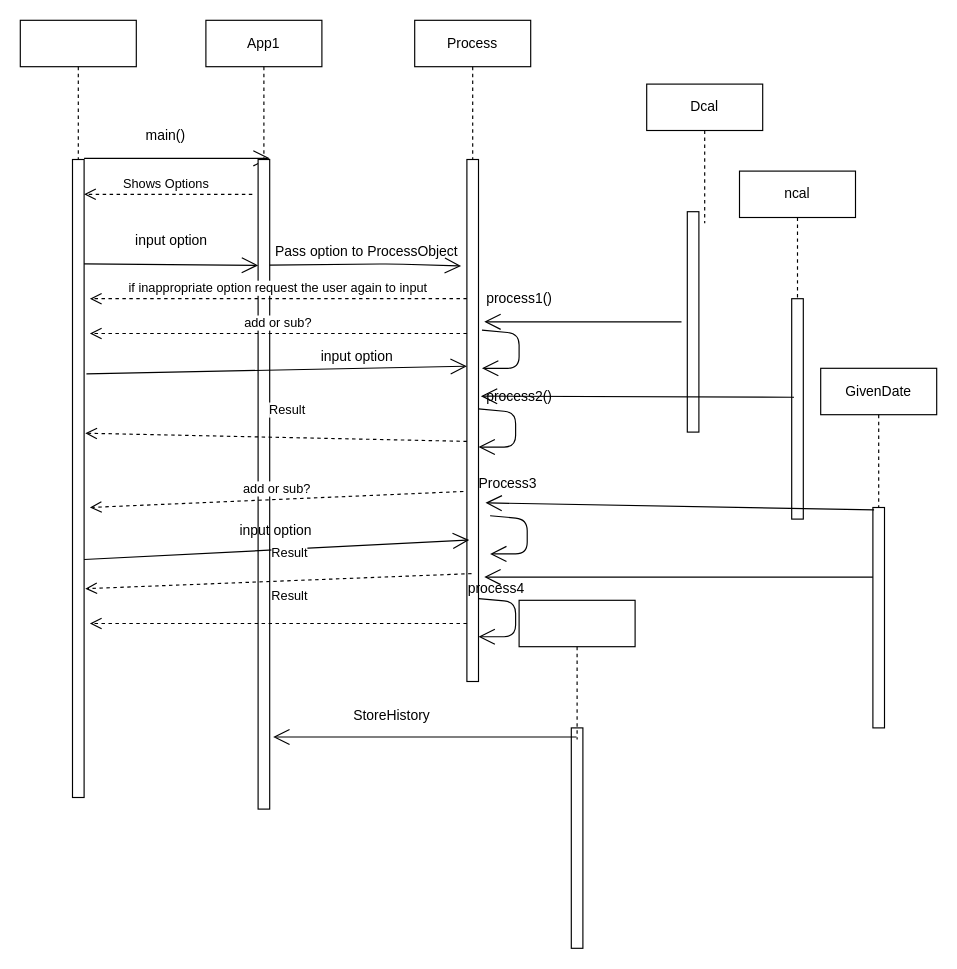
This 957x969 diagram has some shape labels left out. Here are the shapes that lost their labels. From the top down, the centre of each, then its label:
(x=77, y=89): User
(x=576, y=669): HistorySes
